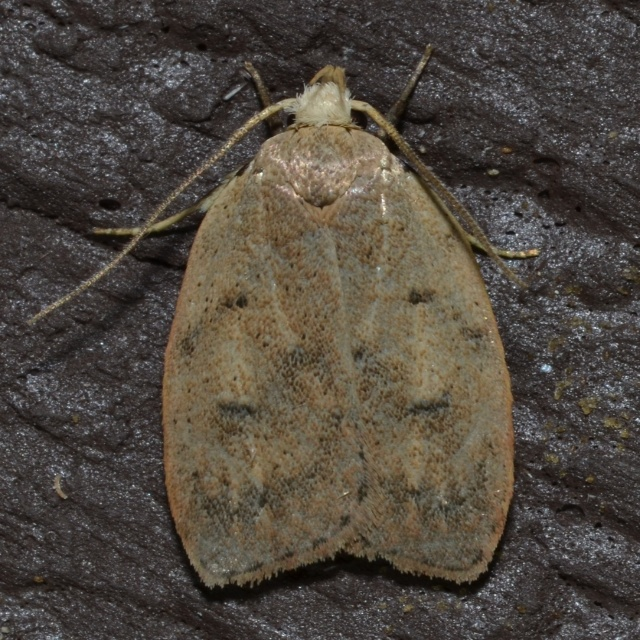Moths and butterflies: (23, 42, 540, 598)
